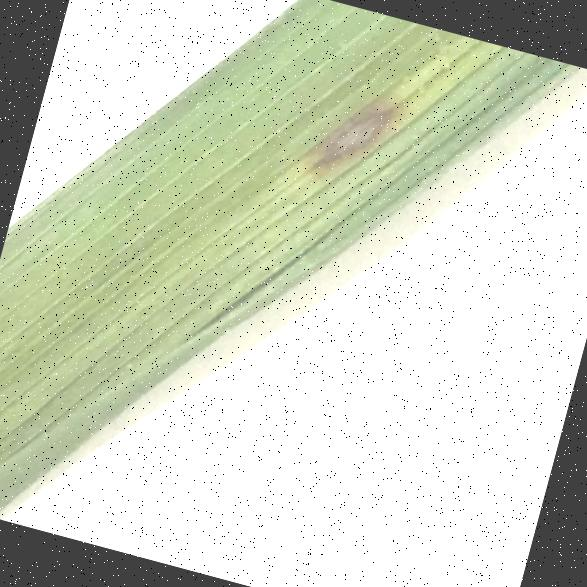Leaf_smut: (296, 53, 413, 202)
